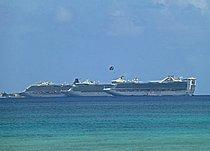Ship: (102, 74, 200, 100)
